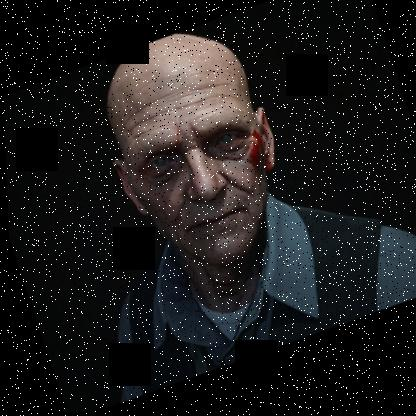Male: (79, 15, 303, 288)
